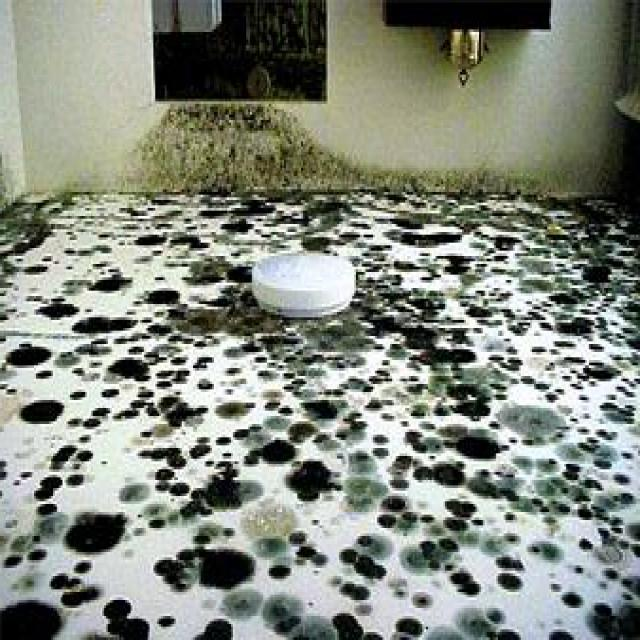wall_mold: (256, 314, 640, 640), (7, 186, 253, 640), (354, 188, 640, 318), (144, 109, 321, 190), (326, 153, 543, 195), (255, 182, 347, 254)
